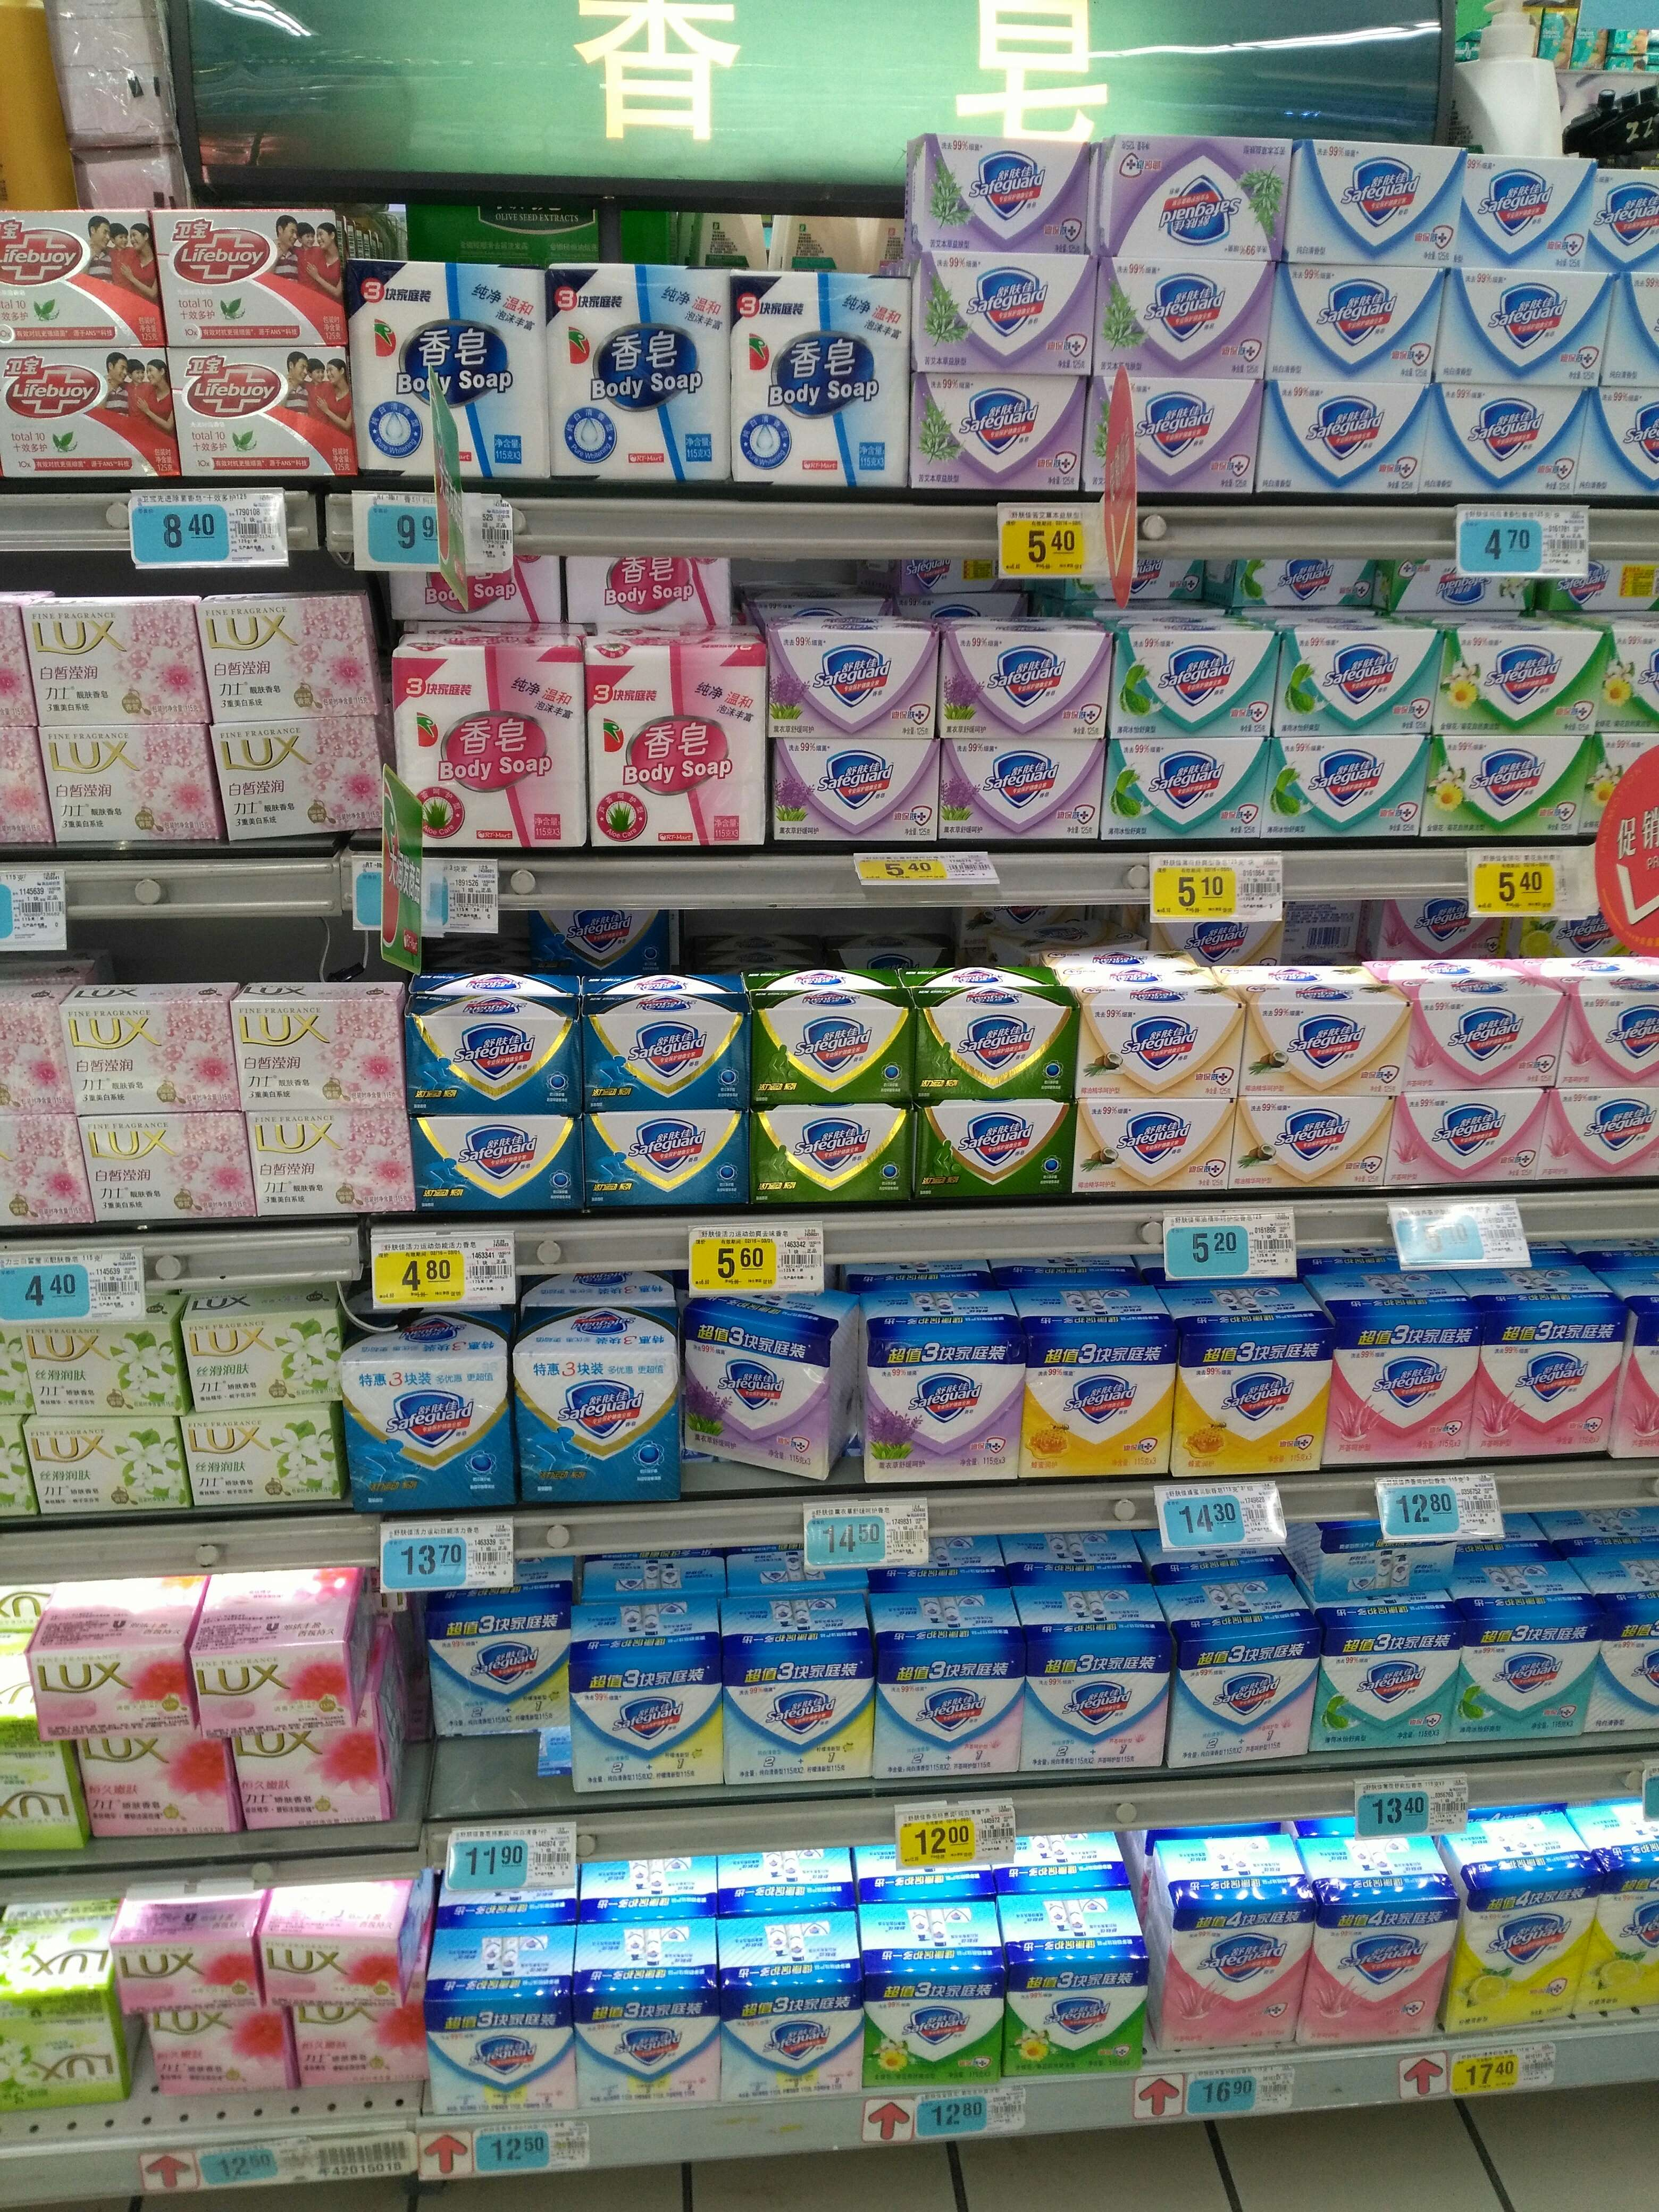product: (352, 251, 537, 477), (396, 639, 584, 853), (547, 256, 725, 482), (730, 270, 908, 489), (592, 639, 770, 846), (683, 1296, 845, 1482), (342, 1334, 505, 1510), (511, 1341, 676, 1510), (1328, 1299, 1476, 1480), (1302, 1879, 1453, 2052), (1171, 1315, 1328, 1480), (152, 209, 343, 341), (1019, 1318, 1171, 1482), (863, 1324, 1019, 1480), (723, 1632, 873, 1792), (1016, 1634, 1175, 1782), (1476, 1299, 1612, 1470), (570, 1642, 720, 1796), (173, 347, 343, 477), (1162, 1892, 1302, 2050), (1455, 1860, 1584, 2029), (873, 1632, 1016, 1782), (1107, 134, 1284, 254), (23, 597, 195, 719), (37, 723, 209, 843), (3, 352, 164, 481), (1007, 1944, 1152, 2085), (202, 596, 376, 712), (915, 138, 1091, 253), (1316, 1618, 1462, 1756), (911, 260, 1089, 373), (3, 209, 153, 343), (1284, 139, 1453, 258), (209, 723, 380, 840), (1173, 1632, 1316, 1771), (1096, 261, 1263, 376), (425, 1611, 570, 1742), (1443, 270, 1603, 385), (10, 1317, 183, 1423), (911, 380, 1080, 488), (938, 627, 1103, 737), (1087, 387, 1251, 496), (772, 744, 941, 850), (228, 996, 397, 1103), (1272, 266, 1434, 376), (939, 744, 1107, 850), (573, 1989, 723, 2107), (1466, 1608, 1591, 1749), (1258, 387, 1417, 498), (64, 1001, 230, 1108), (192, 1629, 343, 1743), (425, 2000, 572, 2118), (777, 634, 932, 744), (1276, 629, 1434, 735), (84, 1115, 244, 1219), (1427, 387, 1574, 500), (411, 1113, 584, 1209), (1443, 629, 1601, 732), (3, 1979, 113, 2127), (404, 1010, 577, 1104), (1263, 744, 1429, 841), (725, 1980, 866, 2094), (246, 1108, 406, 1207), (26, 1644, 188, 1742), (868, 1972, 1006, 2085), (1108, 740, 1263, 840), (755, 1005, 917, 1099), (1115, 634, 1265, 735), (586, 1113, 748, 1205), (1246, 1000, 1399, 1096), (1429, 744, 1588, 836), (1406, 996, 1561, 1089), (1072, 1101, 1229, 1191), (586, 1012, 744, 1101), (385, 549, 556, 631), (1230, 1094, 1378, 1188), (758, 1108, 906, 1202), (1464, 155, 1589, 263), (230, 1747, 399, 1827), (1082, 1005, 1237, 1092), (21, 1426, 185, 1508), (922, 1010, 1075, 1097), (915, 1109, 1068, 1197), (183, 1310, 328, 1402), (192, 1416, 338, 1507), (559, 556, 739, 627), (1385, 1097, 1535, 1181), (143, 2017, 291, 2101), (113, 1935, 267, 2013), (85, 1750, 230, 1832), (1540, 1097, 1659, 1190), (293, 2006, 423, 2090), (1303, 1522, 1467, 1587), (526, 906, 688, 968), (267, 1932, 406, 2003), (1596, 1860, 1659, 2013), (3, 1111, 84, 1228), (1593, 1601, 1659, 1738), (1565, 993, 1659, 1087), (1579, 388, 1659, 496), (1225, 557, 1382, 611), (3, 1749, 80, 1855), (1394, 559, 1537, 615), (1056, 563, 1209, 611), (2, 993, 64, 1109), (1588, 735, 1659, 836), (878, 554, 1026, 601), (1593, 165, 1659, 268), (1605, 273, 1659, 383), (1603, 627, 1659, 728), (1540, 564, 1659, 611)
